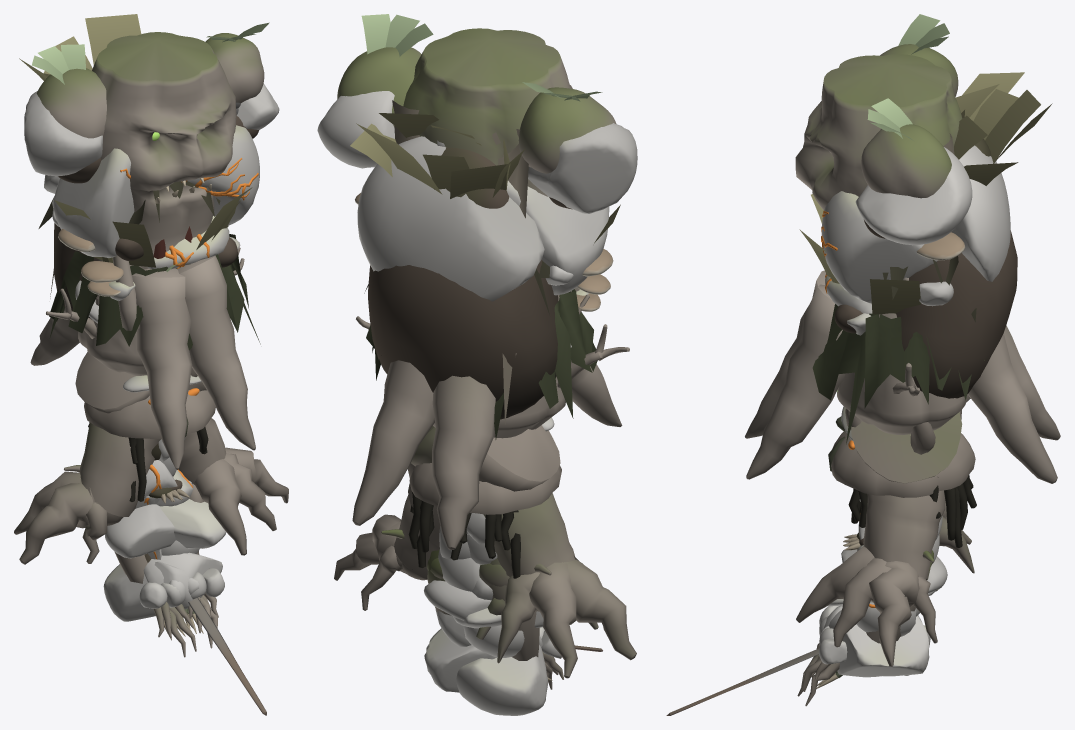
Rendered from wardens.glb.
3 views of the same model, side by side, from view 1: azimuth 30°, elevation 25°; view 2: azimuth 150°, elevation 25°; view 3: azimuth 270°, elevation 25° (orthographic). The views are drawn at different scales.
Visible parts, largest first — view 1: warden_treant_torso, warden_golem_torso, warden_hag_torso, warden_treant_leg_l, warden_treant_leg_r, warden_treant_head, warden_golem_arm_l, warden_golem_leg_r, warden_golem_leg_l, warden_golem_arm_r, warden_treant_arm_l, warden_revenant_arm_r (+3 smaller); view 2: warden_treant_torso, warden_golem_torso, warden_hag_torso, warden_treant_leg_r, warden_treant_leg_l, warden_golem_arm_l, warden_treant_head, warden_golem_arm_r, warden_hag_head, warden_golem_leg_r, warden_treant_arm_l, warden_golem_leg_l (+2 smaller); view 3: warden_treant_torso, warden_hag_torso, warden_golem_torso, warden_treant_leg_l, warden_treant_leg_r, warden_golem_arm_r, warden_treant_head, warden_hag_head, warden_treant_arm_r, warden_revenant_arm_r, warden_golem_leg_r.
Part boxes in pixels (<box>): warden_treant_torso: <box>30,22,269,469</box>; warden_golem_torso: <box>24,83,279,323</box>; warden_hag_torso: <box>19,14,260,349</box>; warden_treant_leg_l: <box>75,352,288,555</box>; warden_treant_leg_r: <box>14,382,206,564</box>; warden_treant_head: <box>46,247,244,439</box>; warden_golem_arm_l: <box>103,496,201,621</box>; warden_golem_leg_r: <box>105,437,185,558</box>; warden_golem_leg_l: <box>157,439,226,548</box>; warden_golem_arm_r: <box>143,457,224,604</box>; warden_treant_arm_l: <box>64,465,196,657</box>; warden_revenant_arm_r: <box>188,598,266,715</box>; warden_treant_torso: <box>337,14,622,549</box>; warden_golem_torso: <box>317,91,637,347</box>; warden_hag_torso: <box>350,113,620,439</box>; warden_treant_leg_r: <box>411,426,636,678</box>; warden_treant_leg_l: <box>334,425,560,610</box>; warden_golem_arm_l: <box>456,534,561,715</box>; warden_treant_head: <box>356,294,629,514</box>; warden_golem_arm_r: <box>424,526,542,692</box>; warden_hag_head: <box>408,492,520,578</box>; warden_golem_leg_r: <box>424,513,543,627</box>; warden_treant_arm_l: <box>479,558,563,689</box>; warden_golem_leg_l: <box>438,531,501,628</box>; warden_treant_torso: <box>745,14,1060,483</box>; warden_hag_torso: <box>799,72,1052,444</box>; warden_golem_torso: <box>821,145,1010,335</box>; warden_treant_leg_l: <box>796,410,961,666</box>; warden_treant_leg_r: <box>851,412,974,591</box>; warden_golem_arm_r: <box>819,515,942,677</box>; warden_treant_head: <box>831,363,975,497</box>; warden_hag_head: <box>828,416,976,579</box>; warden_treant_arm_r: <box>797,550,934,706</box>; warden_revenant_arm_r: <box>666,648,819,715</box>; warden_golem_leg_r: <box>841,513,947,592</box>.
Size of the model in its own units: 1.53 by 3.35 by 1.84.
